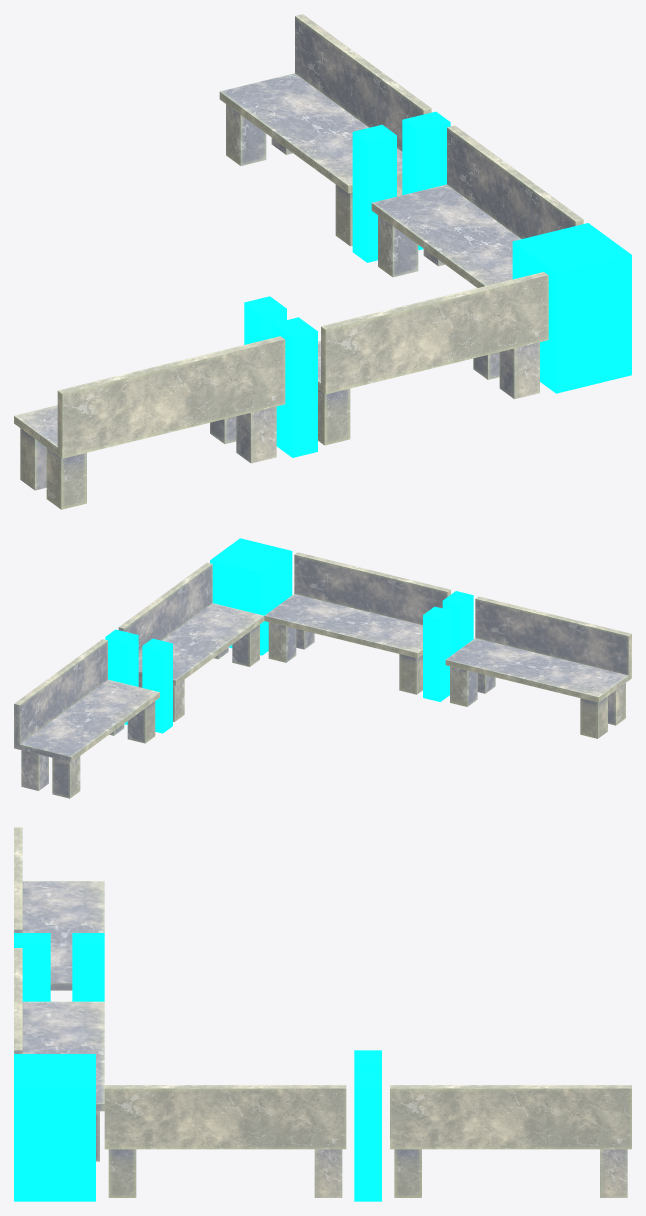
Rendered from benches.glb.
The picture shows the model from 3 angles, top to bottom: view 1: azimuth 30°, elevation 25°; view 2: azimuth 150°, elevation 25°; view 3: azimuth 270°, elevation 25°; orthographic projection. The views are drawn at different scales.
Parts seen in each view (by area): view 1: benches, benchdividers; view 2: benches, benchdividers; view 3: benches, benchdividers.
Boxes of the visible parts, box(x1,y1,x2,y2) form: benches: box(14, 14, 583, 509); benchdividers: box(244, 111, 631, 457); benches: box(14, 552, 631, 798); benchdividers: box(105, 538, 473, 733); benches: box(14, 827, 631, 1197); benchdividers: box(14, 933, 381, 1201).
Size of what is drawn, in the model's own units: 5.58 by 1.13 by 5.58.
Materials: 2 (1 with a texture image).
